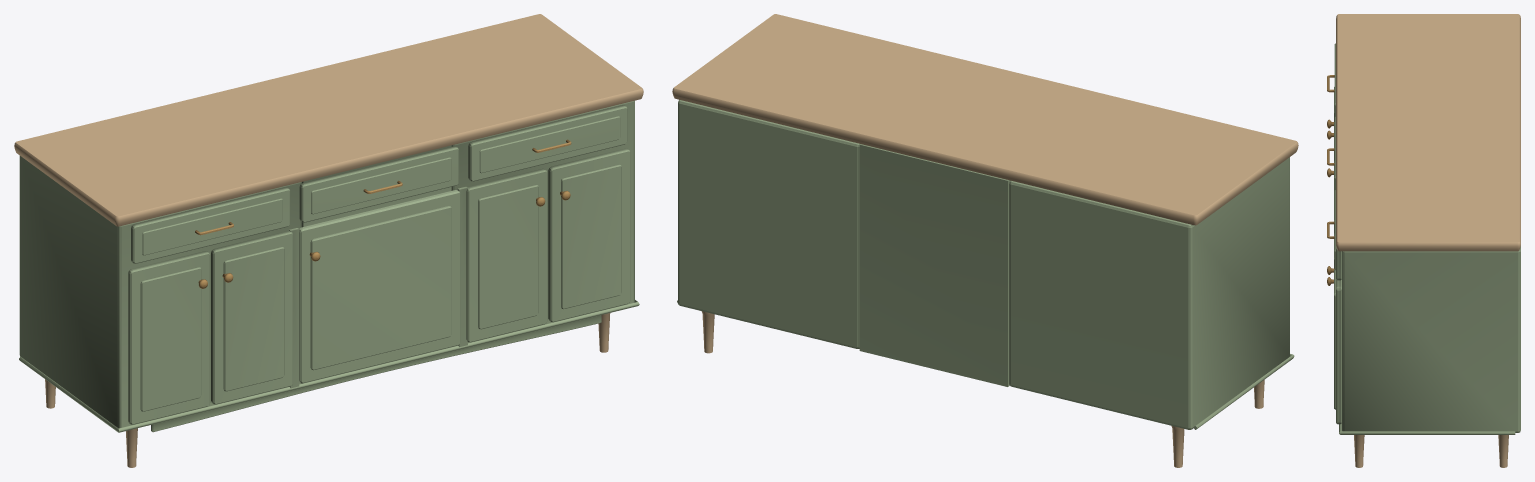
The model's file is buffet.glb.
3 views of the same model, side by side, from view 1: azimuth 30°, elevation 25°; view 2: azimuth 150°, elevation 25°; view 3: azimuth 270°, elevation 25° (orthographic). The views are drawn at different scales.
Visible parts, largest first — view 1: body, door2, door0, door4, door3, door1; view 2: body; view 3: body, door0.
Part boxes in pixels (x1,y1,x2,y2): body: (14,14,643,467); door2: (299,190,460,383); door0: (548,148,630,322); door4: (128,251,210,424); door3: (211,230,292,404); door1: (466,168,547,342); body: (672,14,1298,467); body: (1327,14,1520,467); door0: (1327,269,1341,424).
Bounding box in the file's own units: 1.88 × 0.9 × 0.6716.
